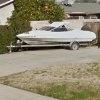Boat: (12, 17, 96, 55)
